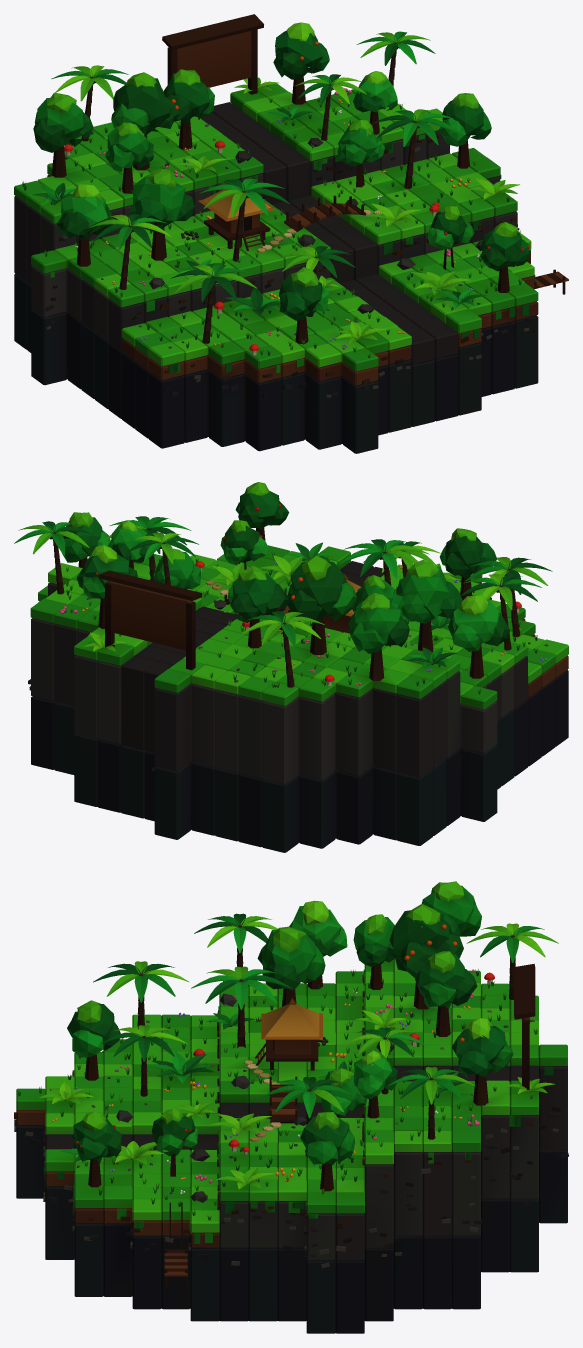
Rendered from island.glb.
The picture shows the model from 3 angles, top to bottom: view 1: azimuth 30°, elevation 25°; view 2: azimuth 150°, elevation 25°; view 3: azimuth 270°, elevation 25°; orthographic projection. The views are drawn at different scales.
Visible parts, largest first — view 1: Island, Sway_tree_0, Sway_tree_13, Sway_tree_7, Sway_tree_9, Sway_tree_20, Sway_tree_30, Sway_tree_22, Sway_tree_1, Sway_tree_2, Sway_tree_32, Sway_tree_16 (+12 smaller); view 2: Island, Sway_tree_0, Sway_tree_13, Sway_tree_7, Sway_tree_20, Sway_tree_1, Sway_tree_30, Sway_tree_32, Sway_tree_9, Sway_tree_25, Sway_tree_22, Sway_palm_14 (+11 smaller); view 3: Island, Sway_tree_0, Sway_tree_13, Sway_tree_9, Sway_tree_1, Sway_tree_22, Sway_tree_30, Sway_tree_7, Sway_tree_20, Sway_tree_32, Sway_tree_2, Sway_palm_14 (+13 smaller).
Part boxes in pixels (x1,y1,x2,y2): Island: (14,14,568,453); Sway_tree_0: (111,72,180,136); Sway_tree_13: (128,168,194,231); Sway_tree_7: (33,92,93,152); Sway_tree_9: (273,22,329,79); Sway_tree_20: (57,184,114,240); Sway_tree_30: (279,267,329,320); Sway_tree_22: (439,93,491,146); Sway_tree_1: (163,69,214,123); Sway_tree_2: (105,122,153,171); Sway_tree_32: (480,222,529,271); Sway_tree_16: (337,119,384,166); Island: (28,527,568,852); Sway_tree_0: (287,555,356,621); Sway_tree_13: (396,559,462,623); Sway_tree_7: (348,593,409,653); Sway_tree_20: (448,595,510,651); Sway_tree_1: (228,566,288,622); Sway_tree_30: (439,528,496,578); Sway_tree_32: (235,482,289,529); Sway_tree_9: (76,544,137,598); Sway_tree_25: (220,520,268,565); Sway_tree_22: (62,512,110,562); Sway_palm_14: (338,539,429,578); Island: (14,925,568,1333); Sway_tree_0: (389,904,463,978); Sway_tree_13: (257,926,325,990); Sway_tree_9: (451,1018,513,1078); Sway_tree_1: (415,951,477,1009); Sway_tree_22: (300,1112,354,1166); Sway_tree_30: (67,1000,120,1057); Sway_tree_7: (421,881,481,936); Sway_tree_20: (289,900,347,956); Sway_tree_32: (72,1111,121,1163); Sway_tree_2: (353,914,396,967); Sway_palm_14: (191,966,291,1009).
Size of the model in its own units: 19.1 by 10.23 by 19.12.
